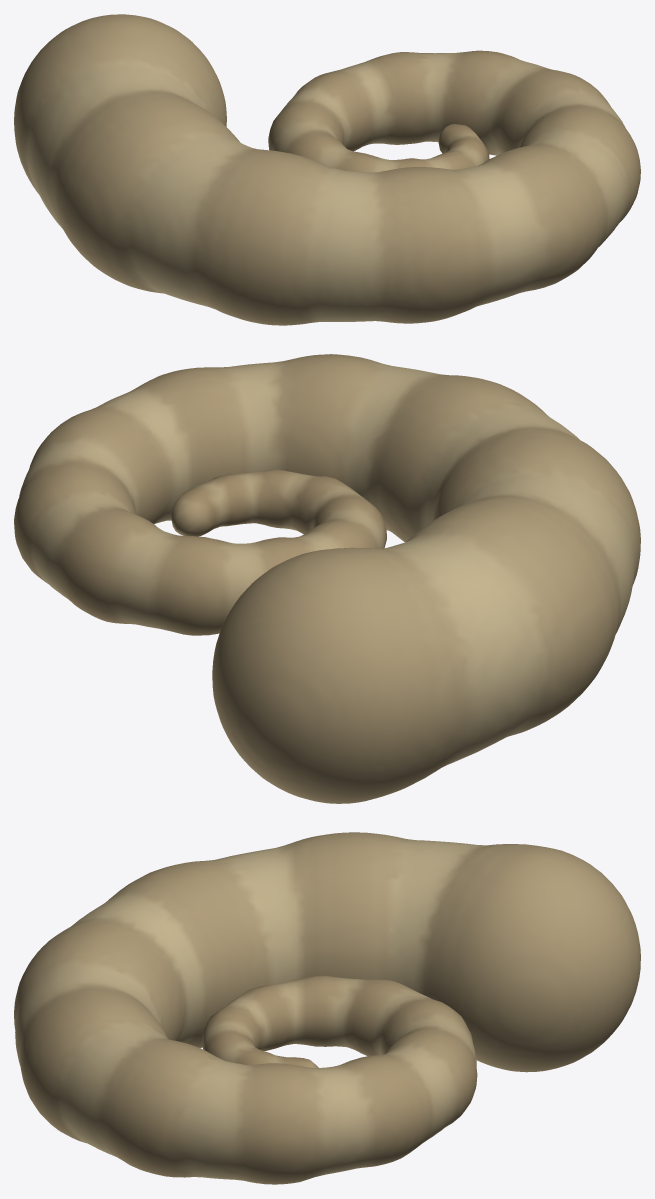
File: ammonite.glb
The picture shows the model from 3 angles, top to bottom: view 1: azimuth 30°, elevation 25°; view 2: azimuth 150°, elevation 25°; view 3: azimuth 270°, elevation 25°; orthographic projection. The views are drawn at different scales.
Visible parts, largest first — view 1: Ammonite; view 2: Ammonite; view 3: Ammonite.
Boxes of the visible parts, x1=… form: Ammonite: x1=14, y1=14, x2=640, y2=325; Ammonite: x1=14, y1=354, x2=640, y2=803; Ammonite: x1=14, y1=832, x2=640, y2=1184.
Size of the model in its own units: 0.1827 by 0.0677 by 0.1874.
